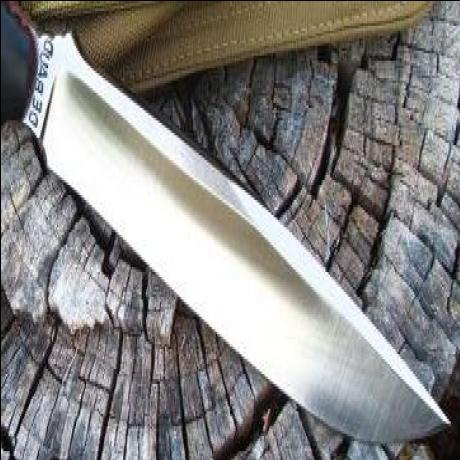weapon: (13, 42, 453, 450)
